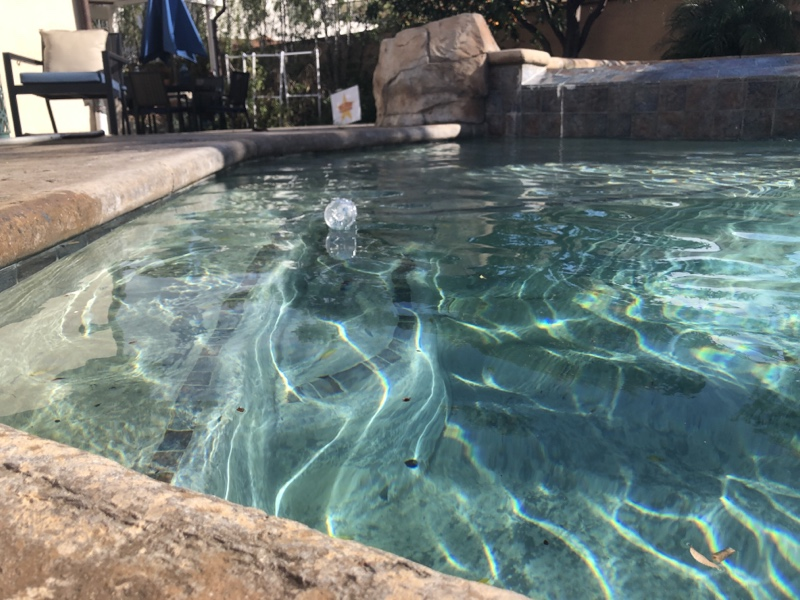Plastic Bottle: (322, 195, 358, 232)
